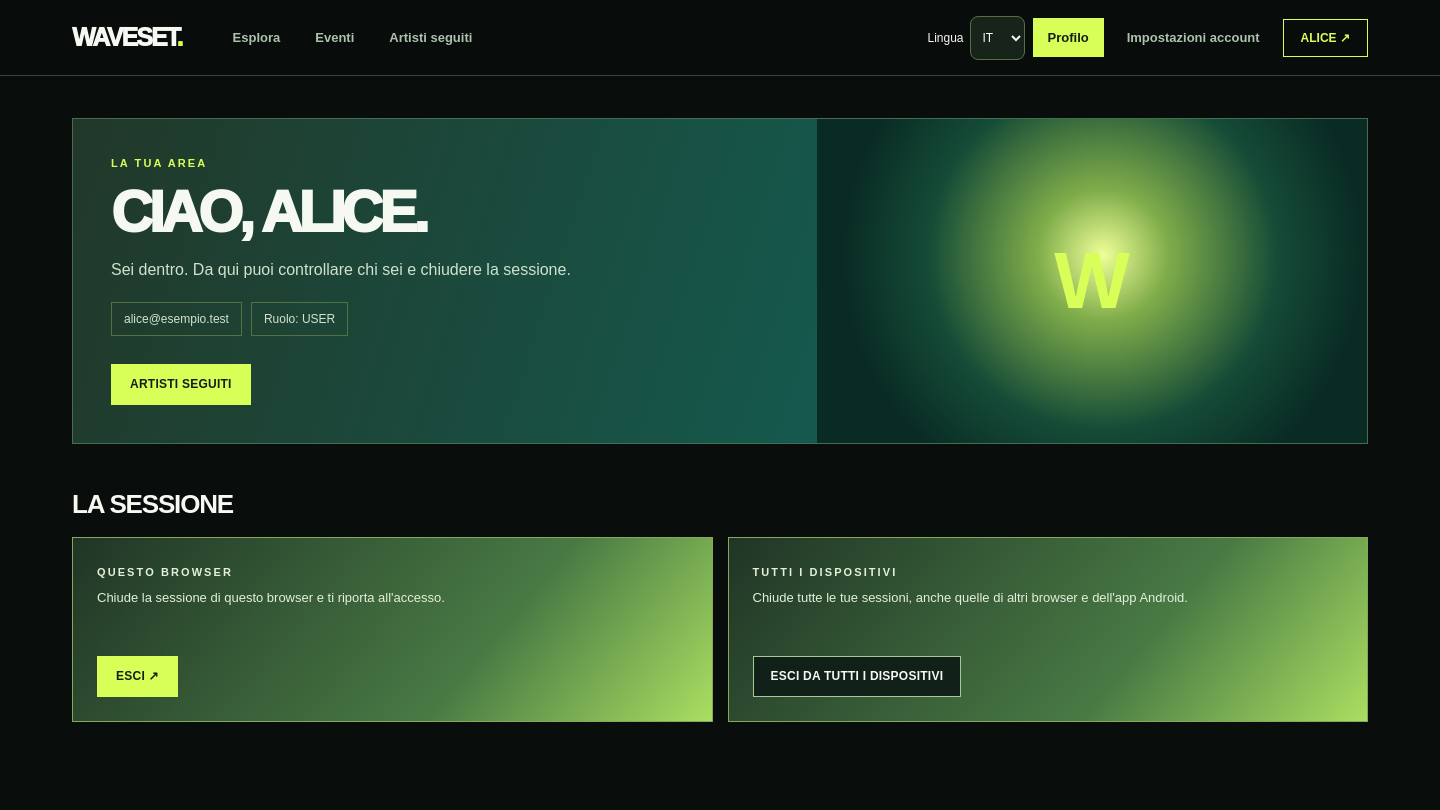
uscita: POST /api/auth/logout › 403 (CSRF o origine rifiutati): resta nell'area con un errore chiaro, ancora autenticato
Check: the heading "Ciao, Alice." is shown, box [111,180,425,244]
What coordinates should you click on to do the following:
click the button "Esci ↗"
I would click on:
 (137, 677)
Its box is [97,656,178,697].
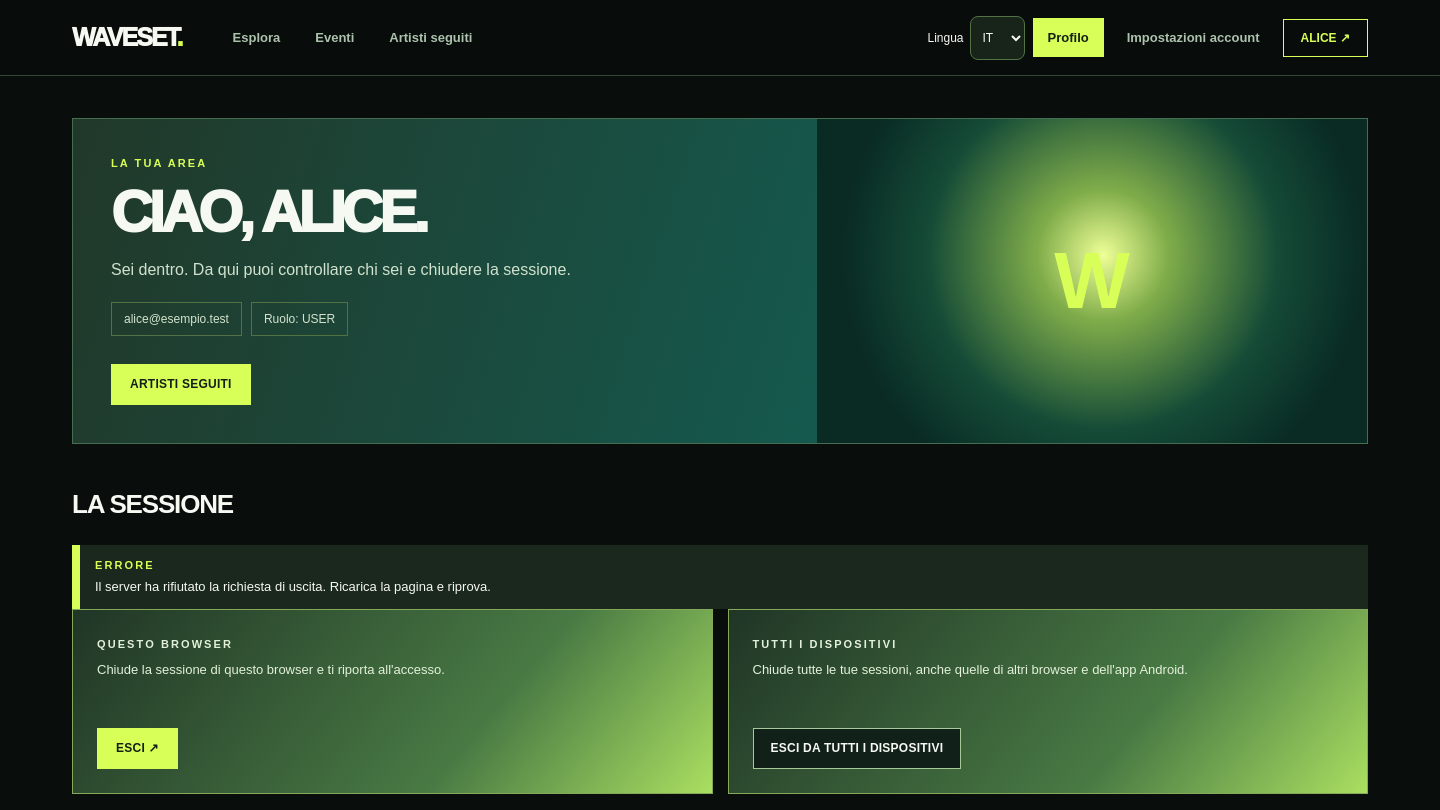
Check: the heading "Ciao, Alice." is shown, box [111,180,425,244]
Check: the message shows "Ricarica la pagina e riprova", box [95,579,491,594]
